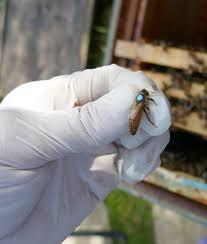Queen-Bee: (129, 89, 156, 134)
